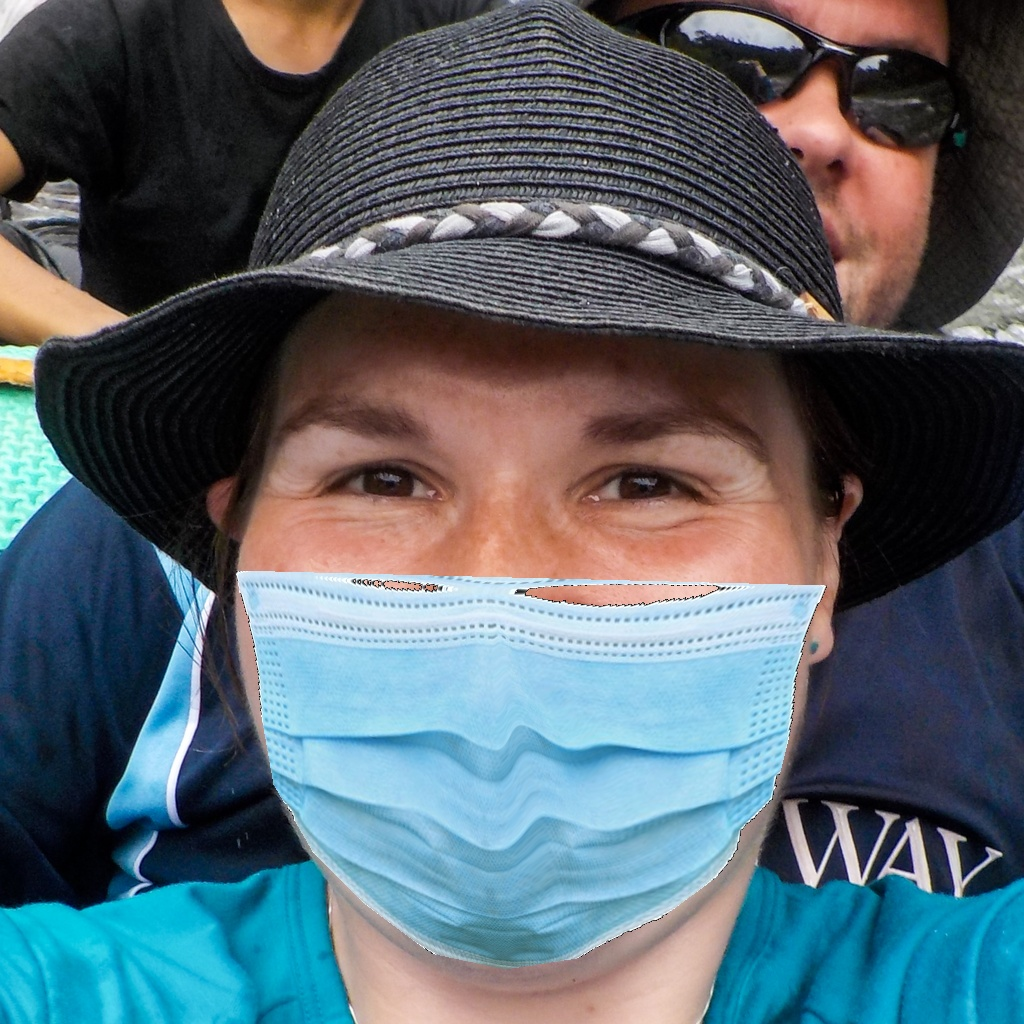Mask: (233, 334, 841, 971)
